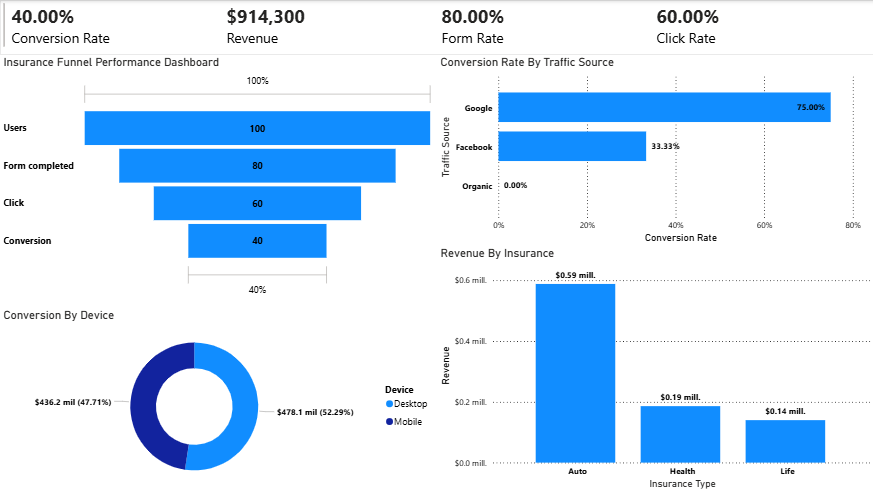

What the dashboard file says about the page in this screenshot:
{"tool":"powerbi","page":{"name":"Página 1","canvas":[1280,720],"ordinal":0},"visuals":[{"type":"multiRowCard","fields":{"Values":["trysmartly.Conversion Rate","trysmartly.Revenue","trysmartly.Form Rate","trysmartly.Click Rate"]},"box":[0,0,1280.5,80.5],"z":0},{"type":"funnel","title":"Insurance Funnel Performance Dashboard","fields":{"Y":["CountNonNull(trysmartly.user_id)","Sum(trysmartly.form_completed)","Sum(trysmartly.click_to_provider)","Sum(trysmartly.conversion)"]},"box":[0,80.5,639.5,360],"z":1000},{"type":"barChart","title":"Conversion Rate By Traffic Source","fields":{"Category":["trysmartly.traffic_source"],"Y":["trysmartly.Conversion Rate"]},"box":[639.5,80.5,641,279.5],"z":2000},{"type":"columnChart","title":"Revenue By Insurance","fields":{"Category":["trysmartly.insurance_type"],"Y":["trysmartly.Revenue"]},"box":[639.5,360,641,360],"z":3000},{"type":"donutChart","title":"Conversion By Device","fields":{"Category":["trysmartly.device"],"Y":["trysmartly.Revenue"]},"box":[0,450.7,639.5,269.3],"z":4000}]}

Visuals, with their boxes in screenshot pixels (x1, y1, x2, y2), scaled from the page's 1280x720 canvas onto the 873x491 screenshot:
multiRowCard - trysmartly.Conversion Rate x trysmartly.Revenue: {"x1": 0, "y1": 0, "x2": 872, "y2": 55}
"Insurance Funnel Performance Dashboard" funnel: {"x1": 0, "y1": 55, "x2": 436, "y2": 300}
"Conversion Rate By Traffic Source" barChart: {"x1": 436, "y1": 55, "x2": 872, "y2": 246}
"Revenue By Insurance" columnChart: {"x1": 436, "y1": 246, "x2": 872, "y2": 490}
"Conversion By Device" donutChart: {"x1": 0, "y1": 307, "x2": 436, "y2": 490}
